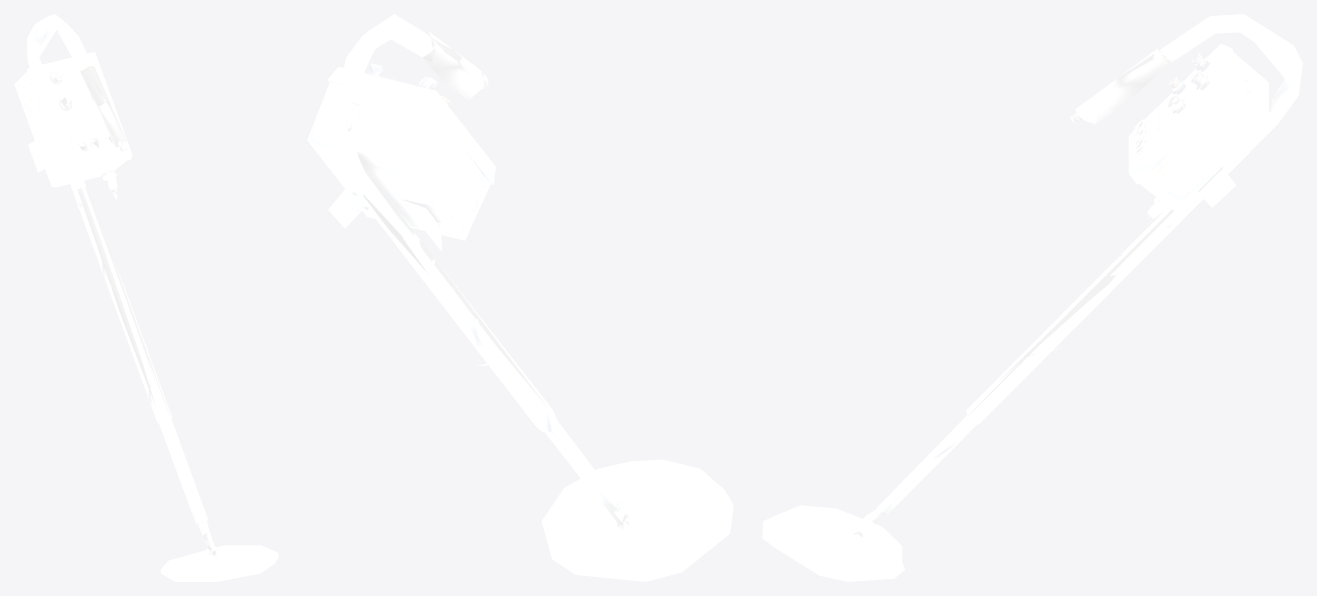
Rendered from metal_detector.glb.
3 views of the same model, side by side, from view 1: azimuth 30°, elevation 25°; view 2: azimuth 150°, elevation 25°; view 3: azimuth 270°, elevation 25° (orthographic). The views are drawn at different scales.
Parts seen in each view (by area): view 1: metal_detector; view 2: metal_detector; view 3: metal_detector.
Part boxes in pixels (x1,y1,x2,y2): metal_detector: (14,14,278,581); metal_detector: (307,14,733,581); metal_detector: (762,14,1302,581).
Size of the model in its own units: 0.2334 by 0.9589 by 0.8563.
Materials: 1 (1 with a texture image).
